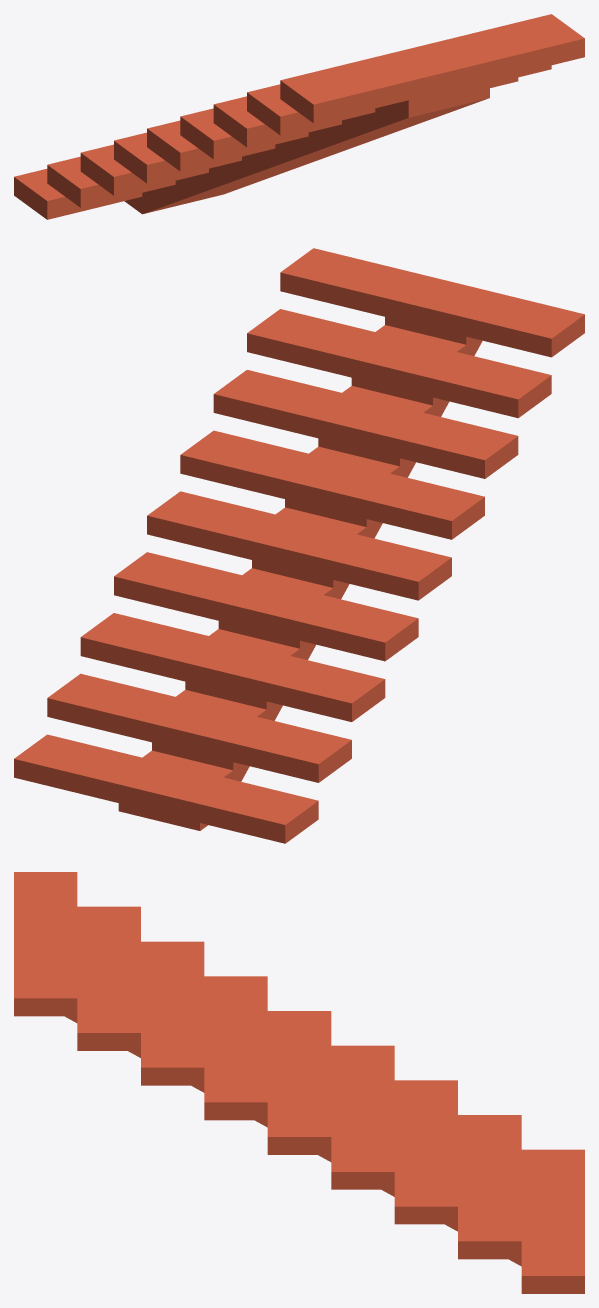
The model's file is stairslong.glb.
3 views of the same model, one above another, from view 1: azimuth 30°, elevation 25°; view 2: azimuth 150°, elevation 25°; view 3: azimuth 270°, elevation 25° (orthographic). The views are drawn at different scales.
Parts seen in each view (by area): view 1: stairsLong; view 2: stairsLong; view 3: stairsLong.
Boxes of the visible parts, left/top/right/bottom form: stairsLong: left=14, top=14, right=584, bottom=219; stairsLong: left=14, top=248, right=584, bottom=843; stairsLong: left=14, top=872, right=584, bottom=1293.
Size of the model in its own units: 4.83 by 5.58 by 9.24.
